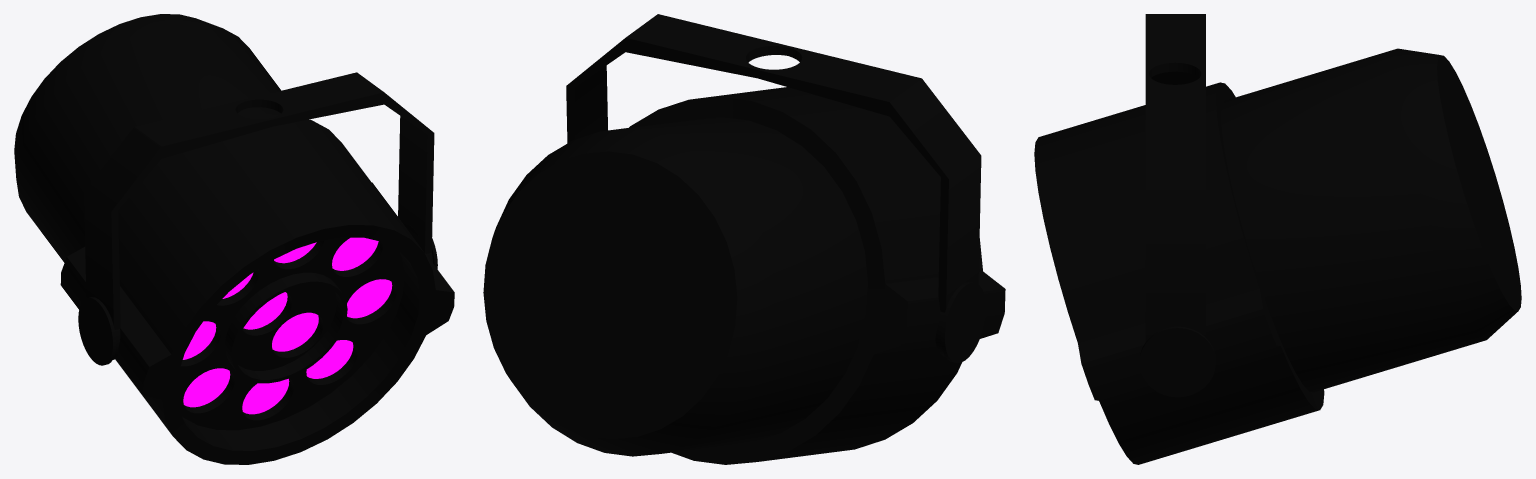
Rendered from partylight.fbx.
3 views of the same model, side by side, from view 1: azimuth 30°, elevation 25°; view 2: azimuth 150°, elevation 25°; view 3: azimuth 270°, elevation 25° (orthographic). The views are drawn at different scales.
Parts seen in each view (by area): view 1: Cylinder, Cube, Circle, Cylinder.001; view 2: Cylinder, Cube, Cylinder.001; view 3: Cylinder, Cube, Cylinder.002.
Boxes of the visible parts, x1=… form: Cylinder: x1=14, y1=14, x2=454, y2=464; Cube: x1=84, y1=72, x2=434, y2=329; Circle: x1=182, y1=237, x2=392, y2=414; Cylinder.001: x1=78, y1=297, x2=120, y2=365; Cylinder: x1=483, y1=87, x2=1005, y2=464; Cube: x1=566, y1=14, x2=981, y2=312; Cylinder.001: x1=935, y1=282, x2=985, y2=363; Cylinder: x1=1034, y1=48, x2=1521, y2=464; Cube: x1=1145, y1=14, x2=1205, y2=341; Cylinder.002: x1=1139, y1=326, x2=1215, y2=397.
Size of the model in its own units: 218 by 225 by 258.
